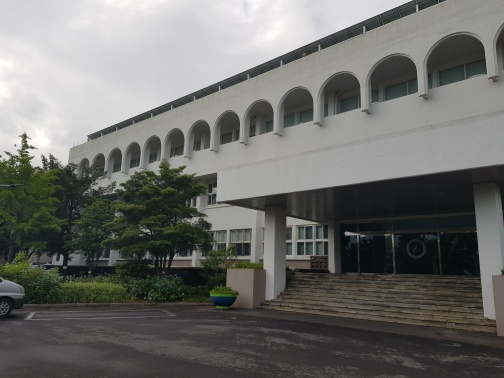Main Building of University: (63, 21, 504, 335), (213, 137, 504, 340), (316, 32, 493, 122), (180, 84, 316, 153), (107, 133, 163, 174)
